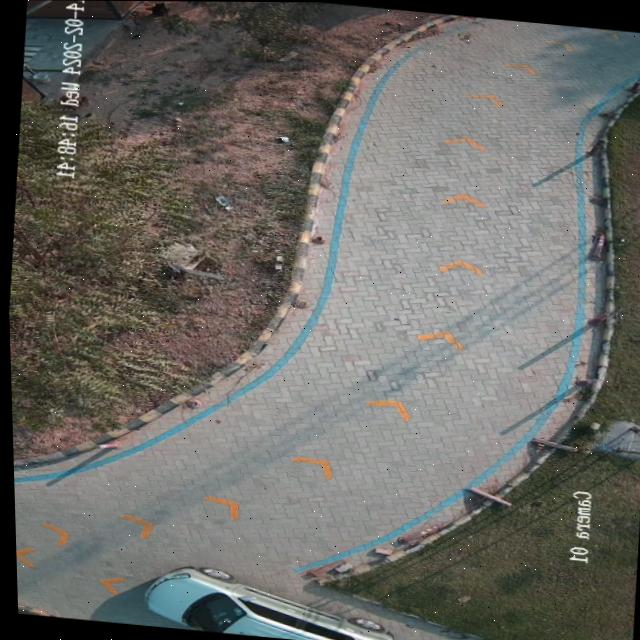car: (138, 568, 389, 640)
